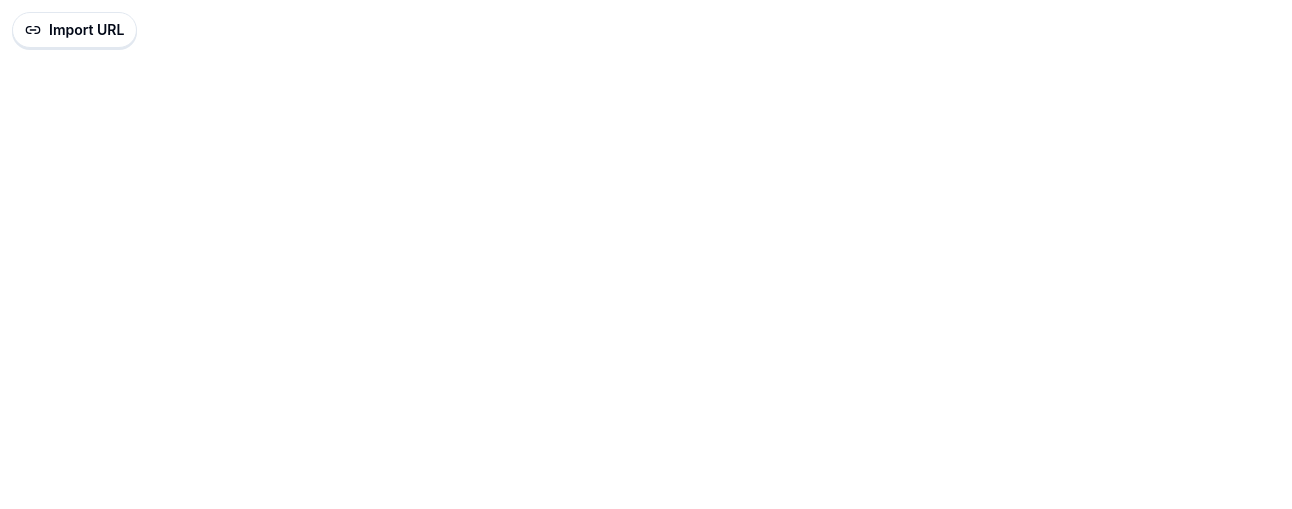
URL import review › offers the matching editor for Markdown and CSV rather than replacing code
The width and height of the screenshot is (1292, 509).
Click the button "Import URL" at point(75, 30), box [12, 12, 137, 48]
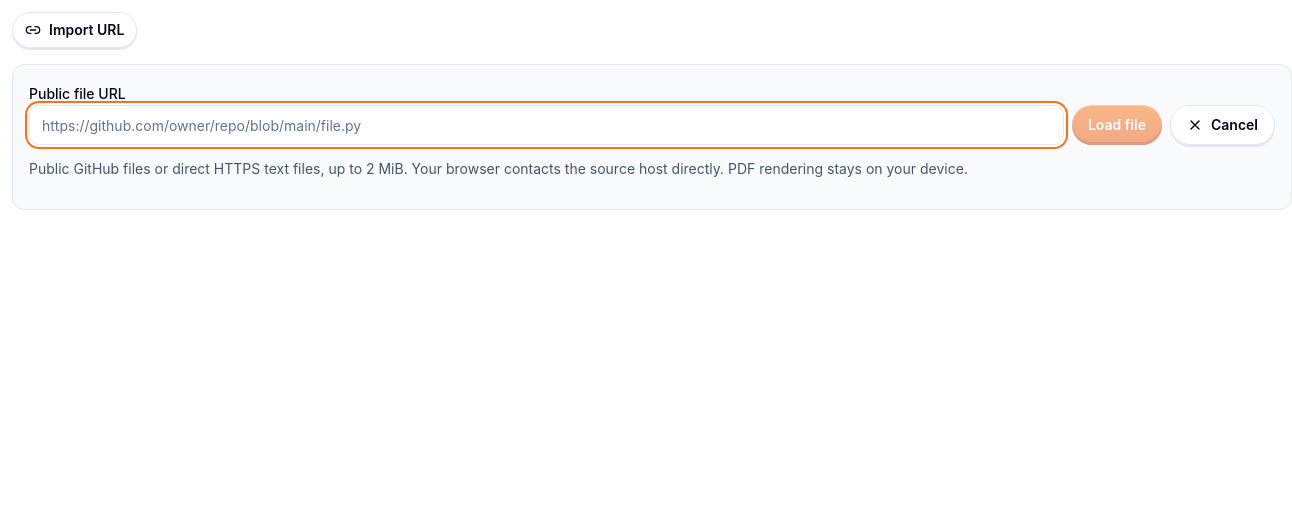
Type "https://example.org/main.py" into the field labelled "Public file URL" at point(546, 125), box [29, 105, 1064, 145]
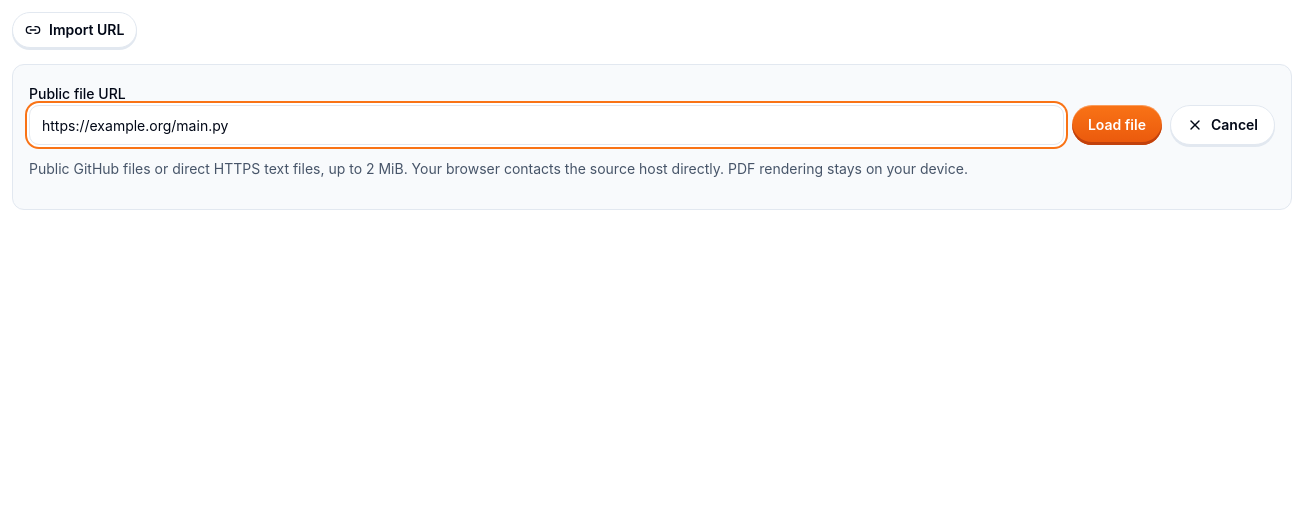
Submit the form labelled "Public file URL", box [29, 81, 1275, 181]
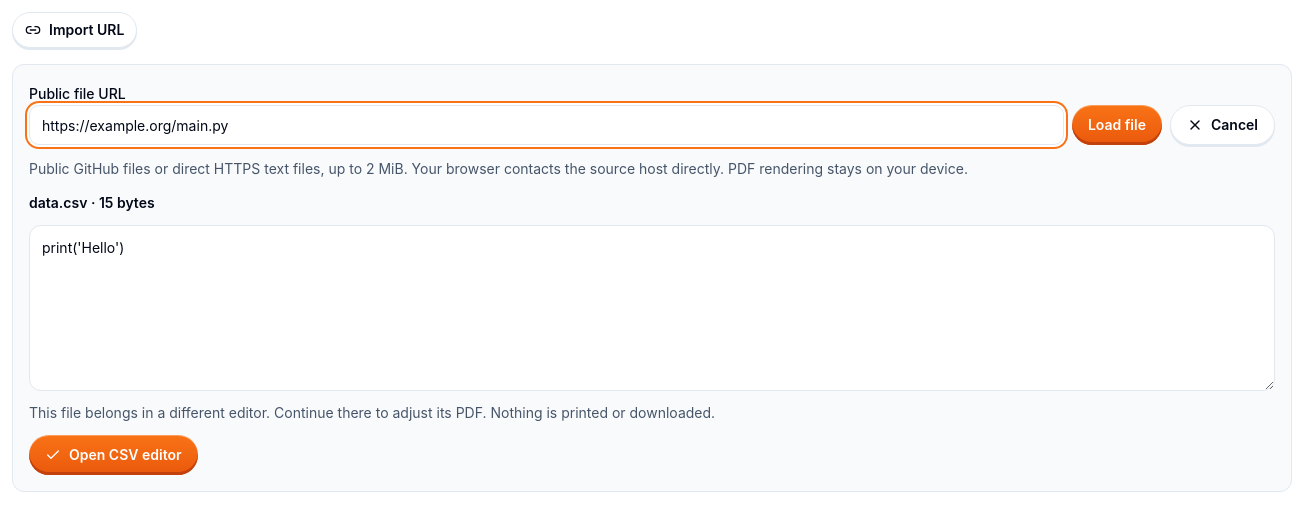
Now the button "Open CSV editor" is shown, box [29, 435, 198, 475]
